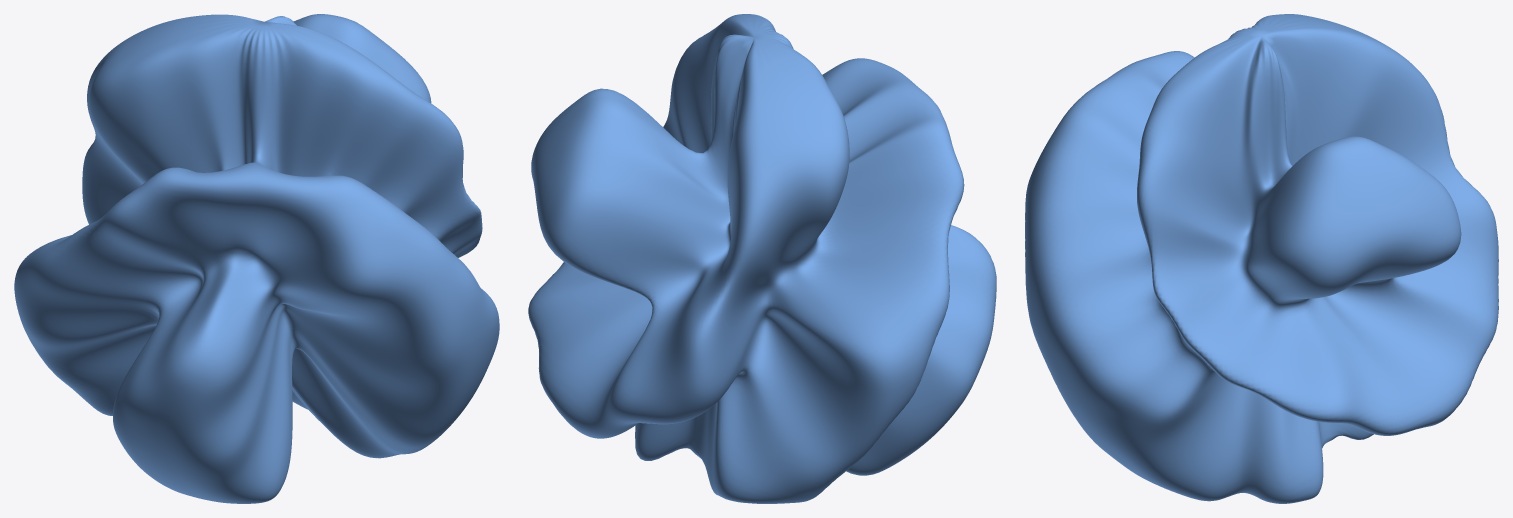
File: form_7.glb
3 renders of one model, left to right at view 1: azimuth 30°, elevation 25°; view 2: azimuth 150°, elevation 25°; view 3: azimuth 270°, elevation 25°, orthographic. The views are drawn at different scales.
Visible parts, largest first — view 1: Sphere; view 2: Sphere; view 3: Sphere.
Part boxes in pixels (x1,y1,x2,y2): Sphere: [14, 14, 499, 503]; Sphere: [528, 14, 996, 503]; Sphere: [1025, 14, 1498, 503].
Size of the model in its own units: 2.52 by 2.56 by 2.59.
